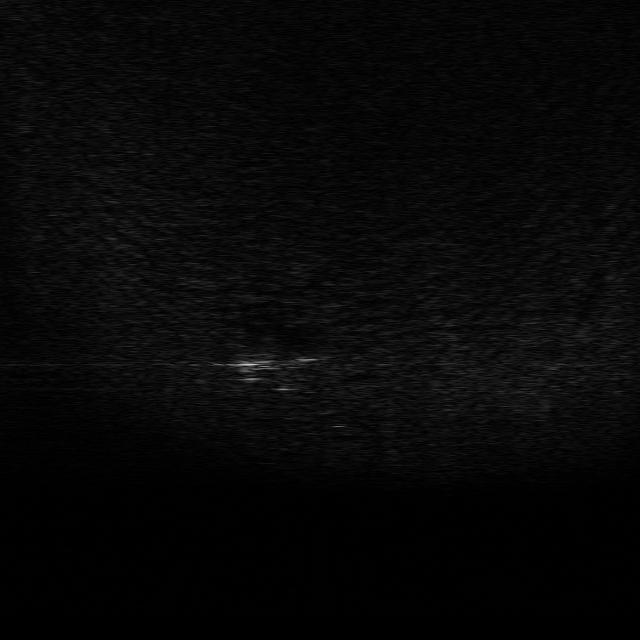plane: (226, 331, 329, 393)
